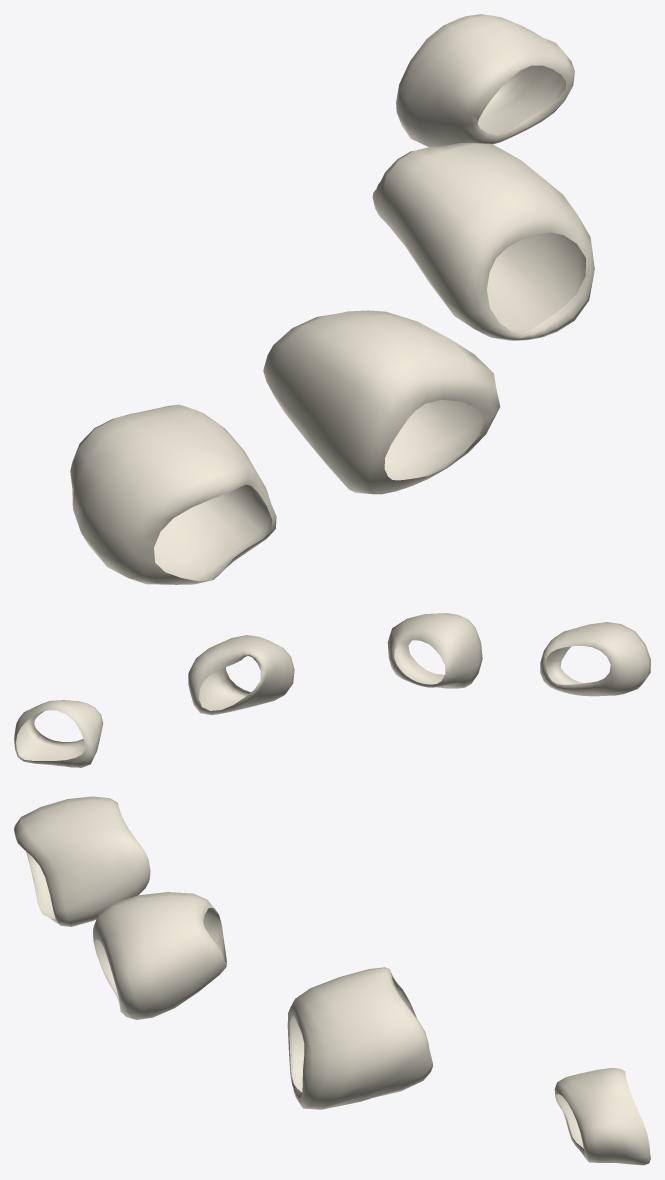
3 views of the same model, one above another, from view 1: azimuth 30°, elevation 25°; view 2: azimuth 150°, elevation 25°; view 3: azimuth 270°, elevation 25° (orthographic). The views are drawn at different scales.
Parts seen in each view (by area): view 1: ZA_1177ba8cf26c3a22; view 2: ZA_1177ba8cf26c3a22; view 3: ZA_1177ba8cf26c3a22.
Boxes of the visible parts, x1,y1,x2,y2 form: ZA_1177ba8cf26c3a22: (70,14,594,584); ZA_1177ba8cf26c3a22: (14,613,650,767); ZA_1177ba8cf26c3a22: (14,796,650,1165).
Size of the model in its own units: 0.0491 by 0.00866 by 0.0451.
